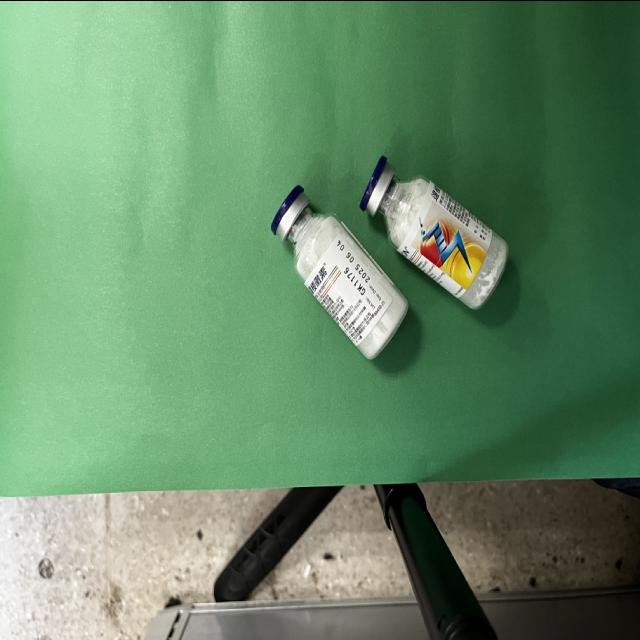Vials: (272, 183, 410, 359), (360, 155, 510, 309)
